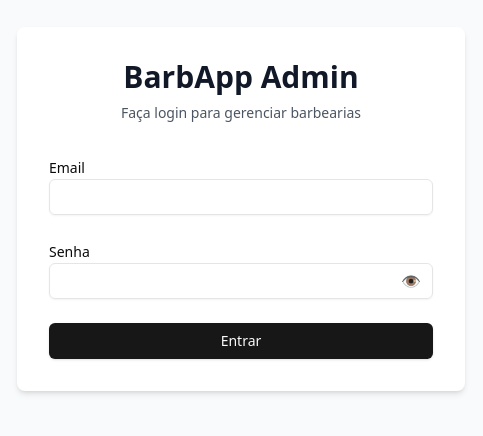
Test: Login Page › should show validation errors for empty fields
The image size is (483, 436).
What coordinates should you click on to do the following:
click the button "Entrar"
I would click on:
 (241, 341)
Its box is 49,323 -> 433,359.
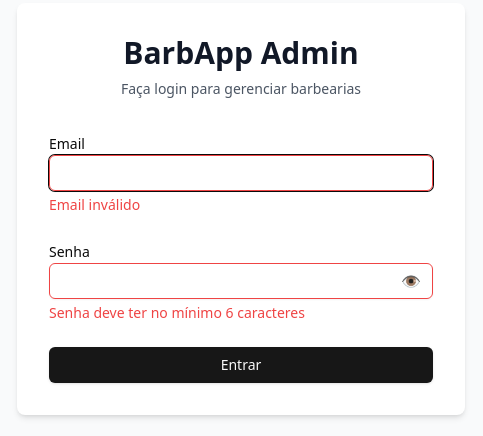
Result: the text "Email inválido" is shown at 49,195 -> 140,214
Result: the text "Senha deve ter no mínimo 6 caracteres" is shown at 49,303 -> 305,322
